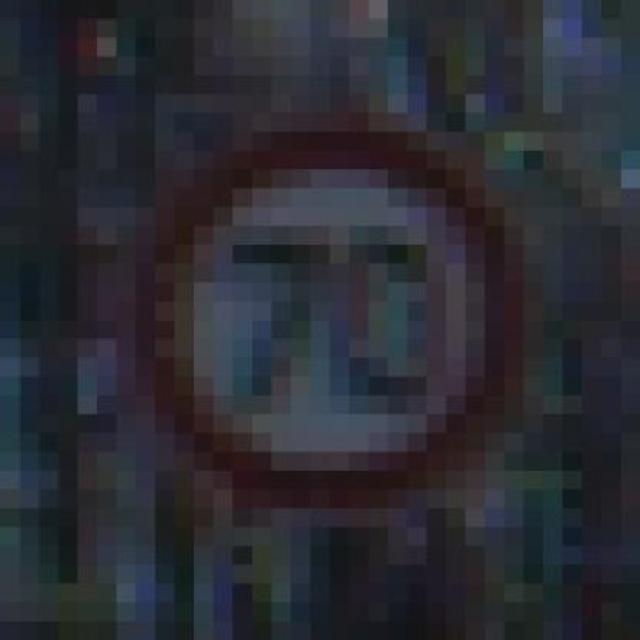forb_speed_over_70: (156, 132, 513, 491)
